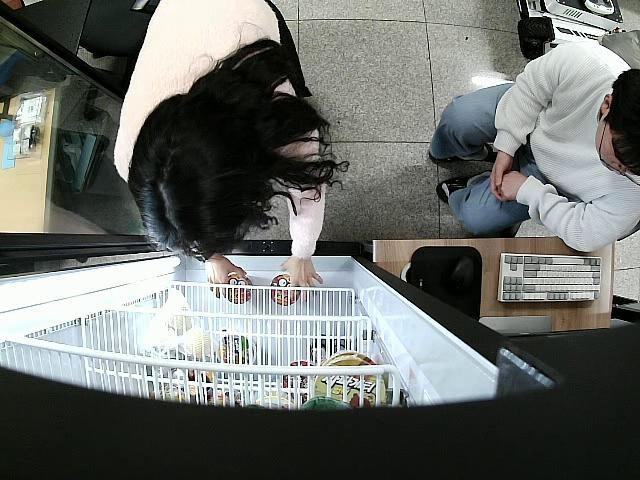06_nuguri_S: (221, 272, 253, 305), (272, 276, 302, 306)
